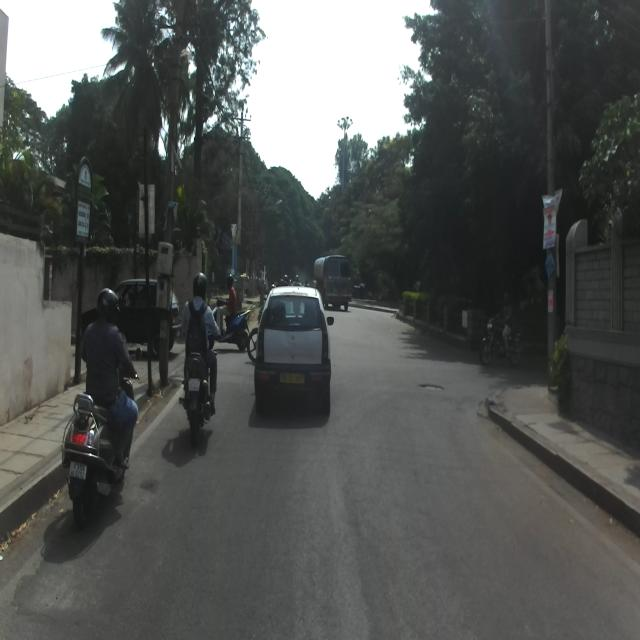car ahead at: (257, 281, 331, 417)
electric pole ahead at: (536, 0, 561, 399)
motorcycle ahead at: (57, 396, 136, 524), (177, 341, 224, 452)
